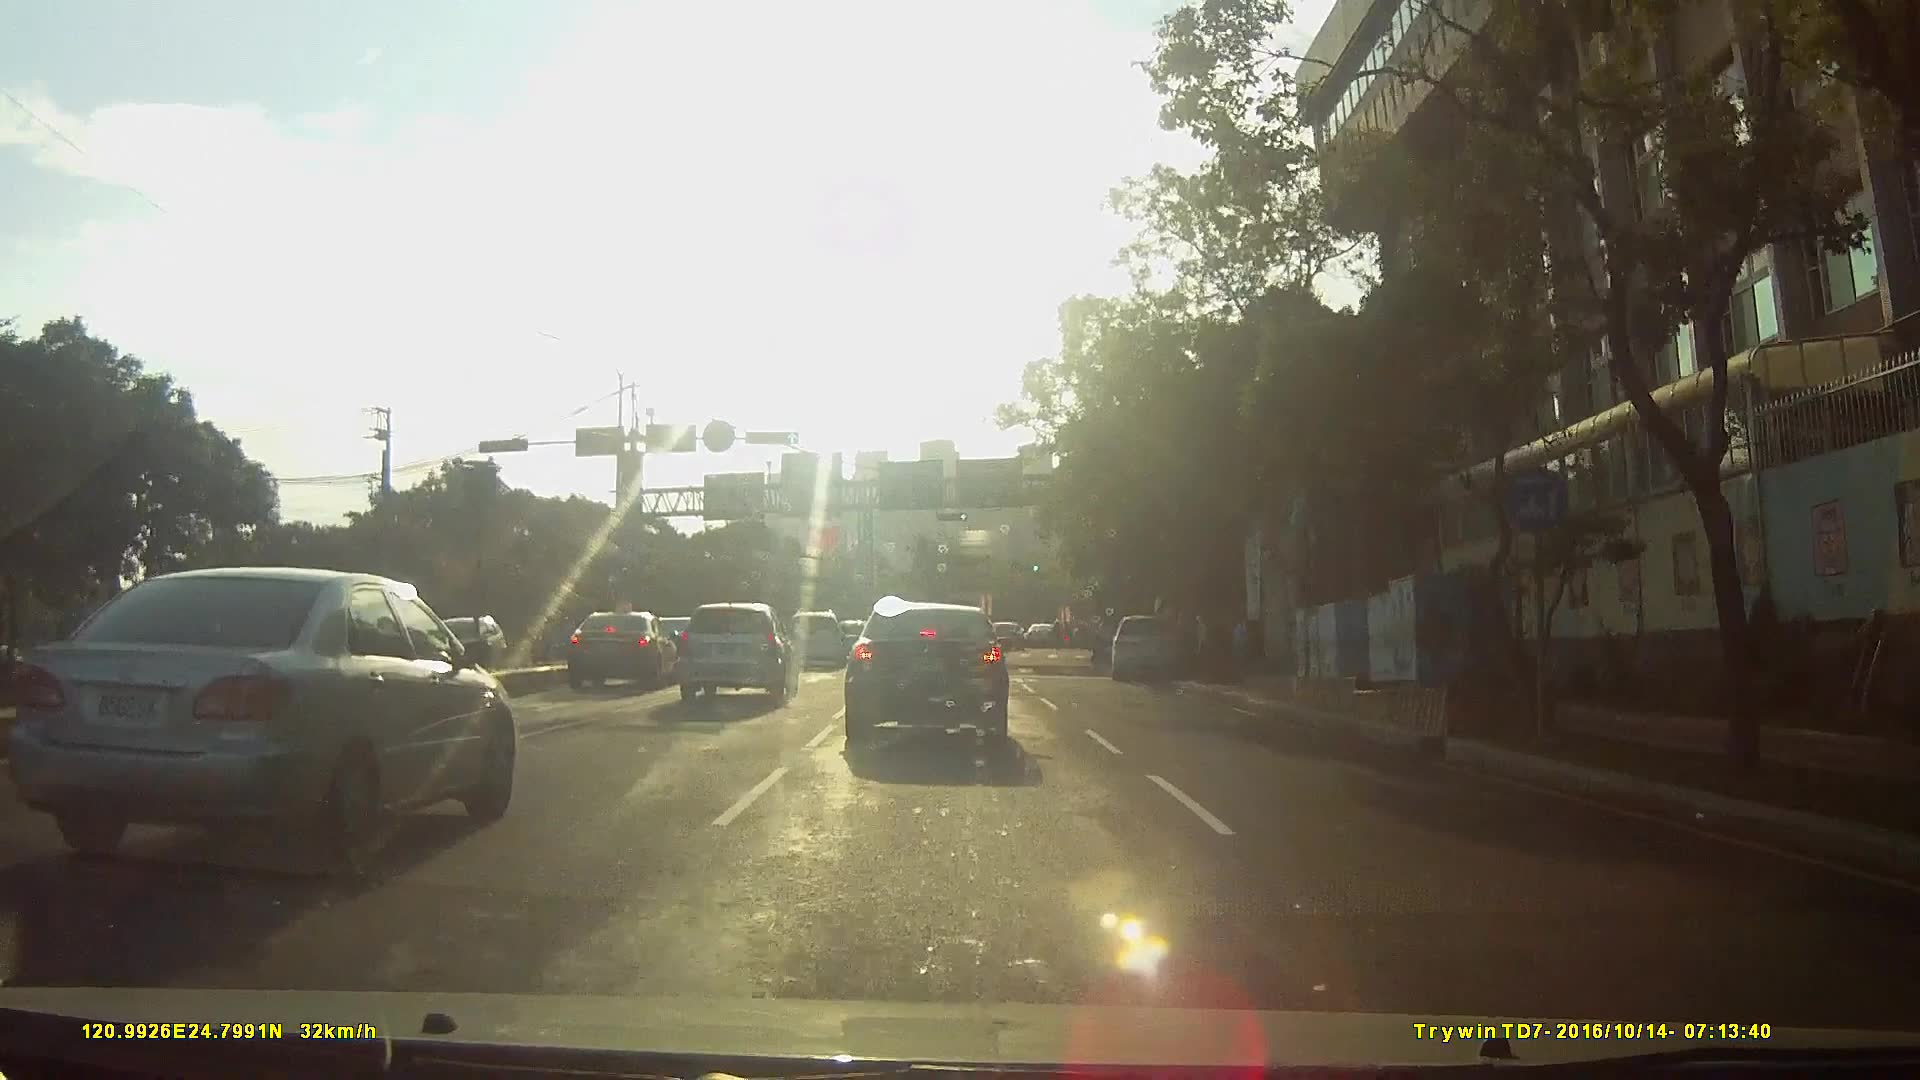vehicle: (15, 549, 527, 882), (833, 603, 1025, 767), (669, 588, 796, 696), (545, 595, 665, 682), (425, 605, 513, 675), (1112, 597, 1189, 670), (782, 597, 849, 657), (989, 611, 1029, 642), (1025, 609, 1067, 637)
